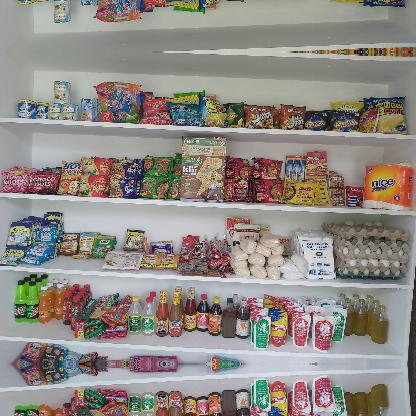Koko-Krunch: (180, 136, 226, 202)
